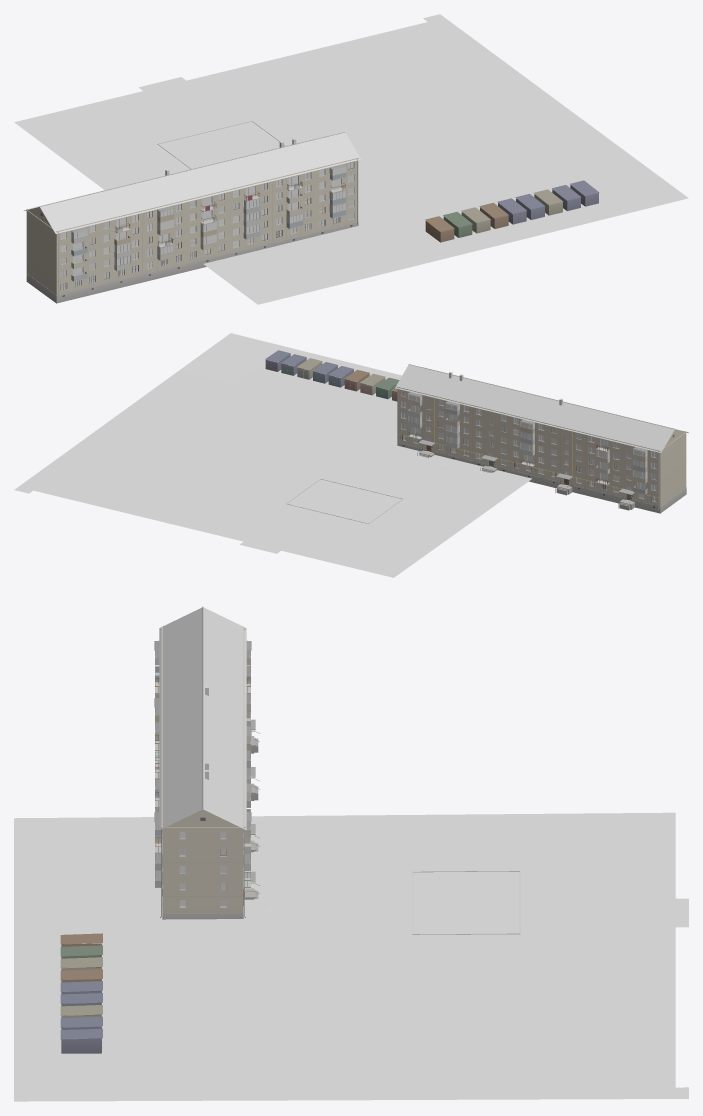
Rendered from chunk_5_5.glb.
3 views of the same model, one above another, from view 1: azimuth 30°, elevation 25°; view 2: azimuth 150°, elevation 25°; view 3: azimuth 270°, elevation 25° (orthographic). The views are drawn at different scales.
Parts seen in each view (by area): view 1: base, detail; view 2: base, detail; view 3: base, detail.
Part boxes in pixels (x1,y1,x2,y2): base: [14, 14, 688, 304]; detail: [27, 132, 357, 298]; base: [14, 333, 688, 577]; detail: [266, 361, 685, 509]; base: [14, 607, 688, 1101]; detail: [101, 607, 259, 1052].
Size of what is drawn, in the model's own units: 134 by 20 by 100.
